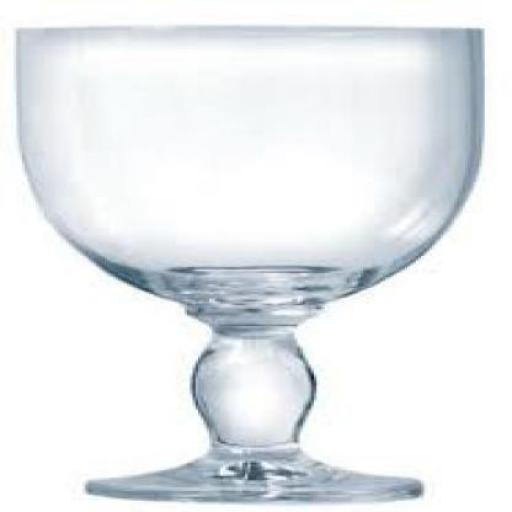glass: (10, 24, 482, 498)
